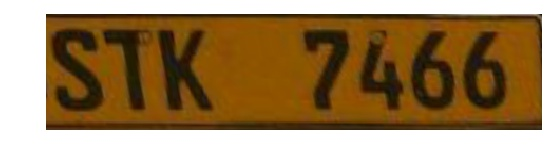T: (102, 25, 156, 116)
